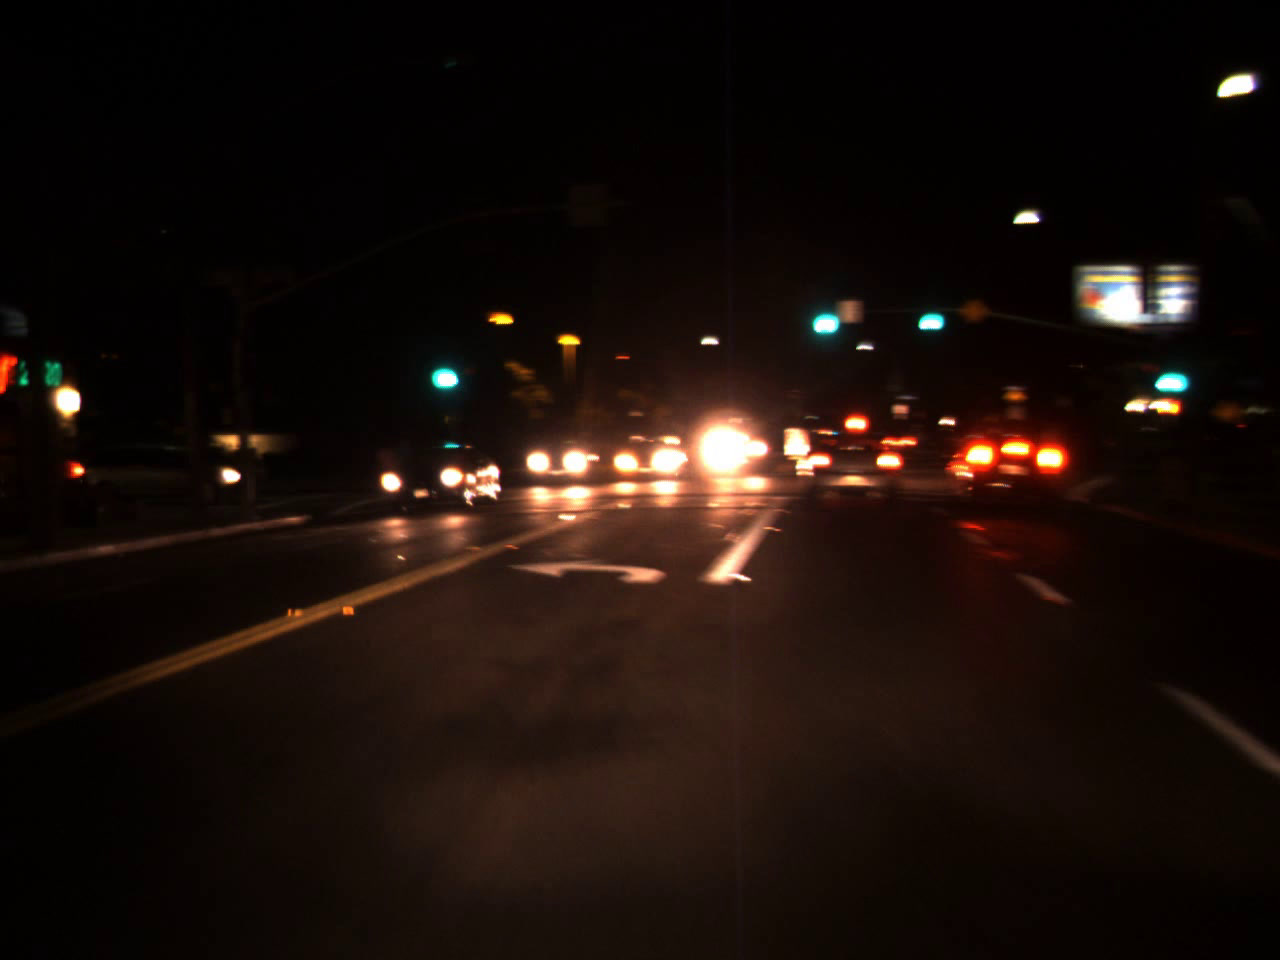go: (419, 340, 465, 397), (1149, 348, 1194, 399), (908, 292, 949, 337), (806, 294, 840, 342)
